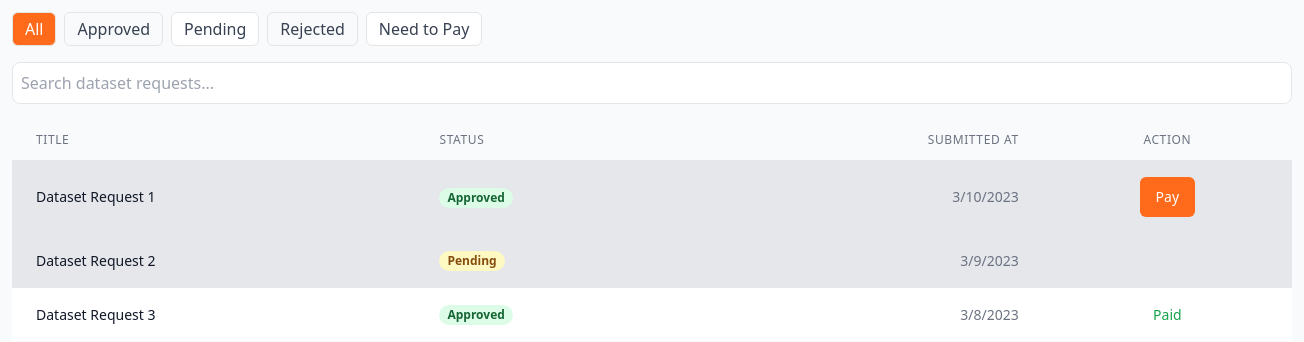
it: DatasetRequestTable Component › renders search input when searchable is true and filters requests by title
Type into the search input to filter for "3"
Type "3" into the field with placeholder "Search dataset requests..." at [652, 83], box [12,62,1292,104]
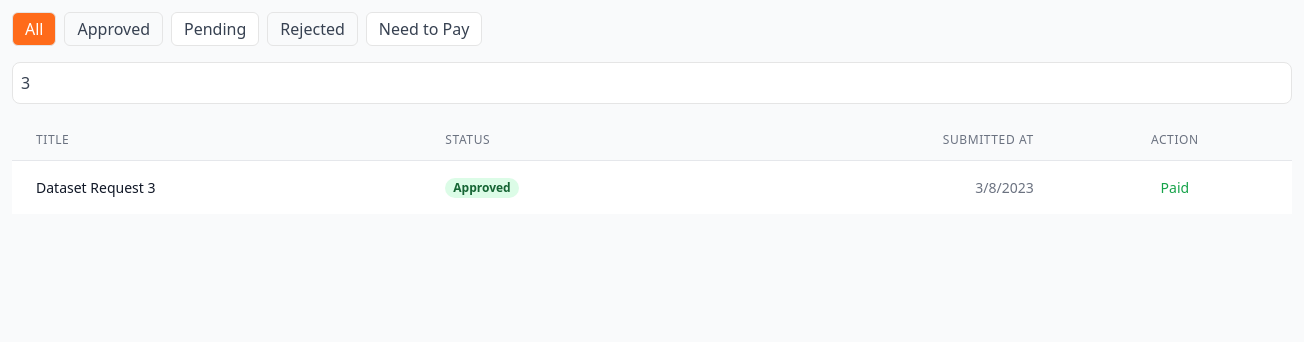
Expected: the text "Dataset Request 3" is shown, [12,160,421,214]
Result: the text "Dataset Request 1" is gone
Result: the text "Dataset Request 2" is gone
